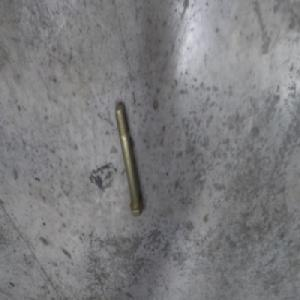Bolt: (116, 101, 145, 215)
